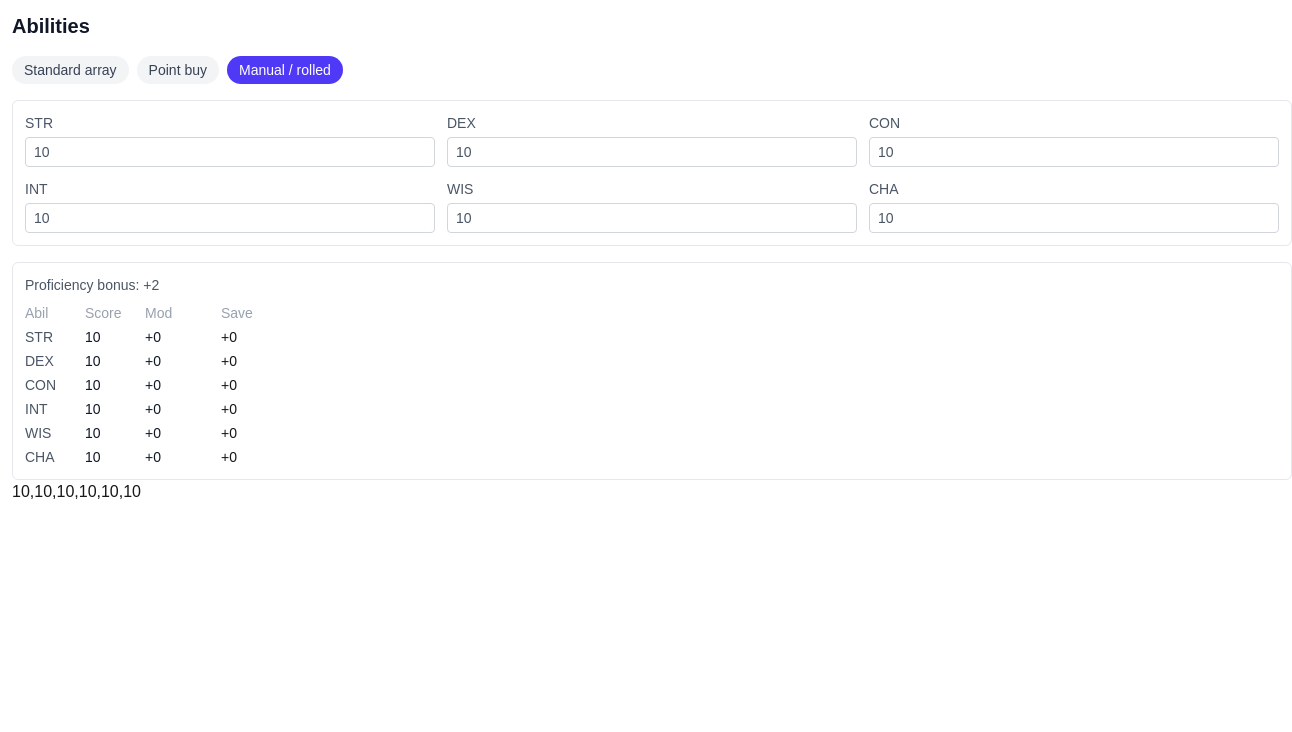
Scenario: AbilitiesStep — ability score generation › carries the point-buy result into manual mode for fine-tuning
Click the radio button labelled "Point buy" at (178, 70), box [137,56,219,84]
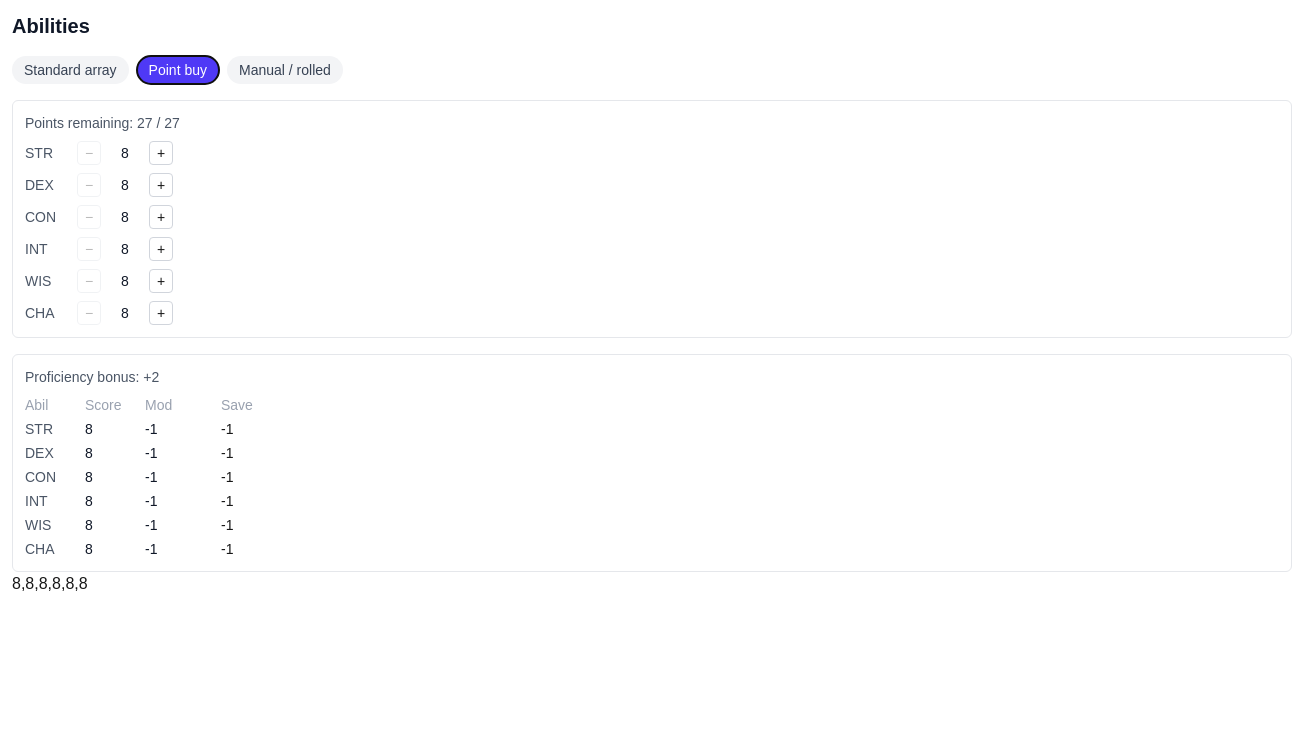
Click the button named "increase strength" at (161, 153), box [149,141,173,165]
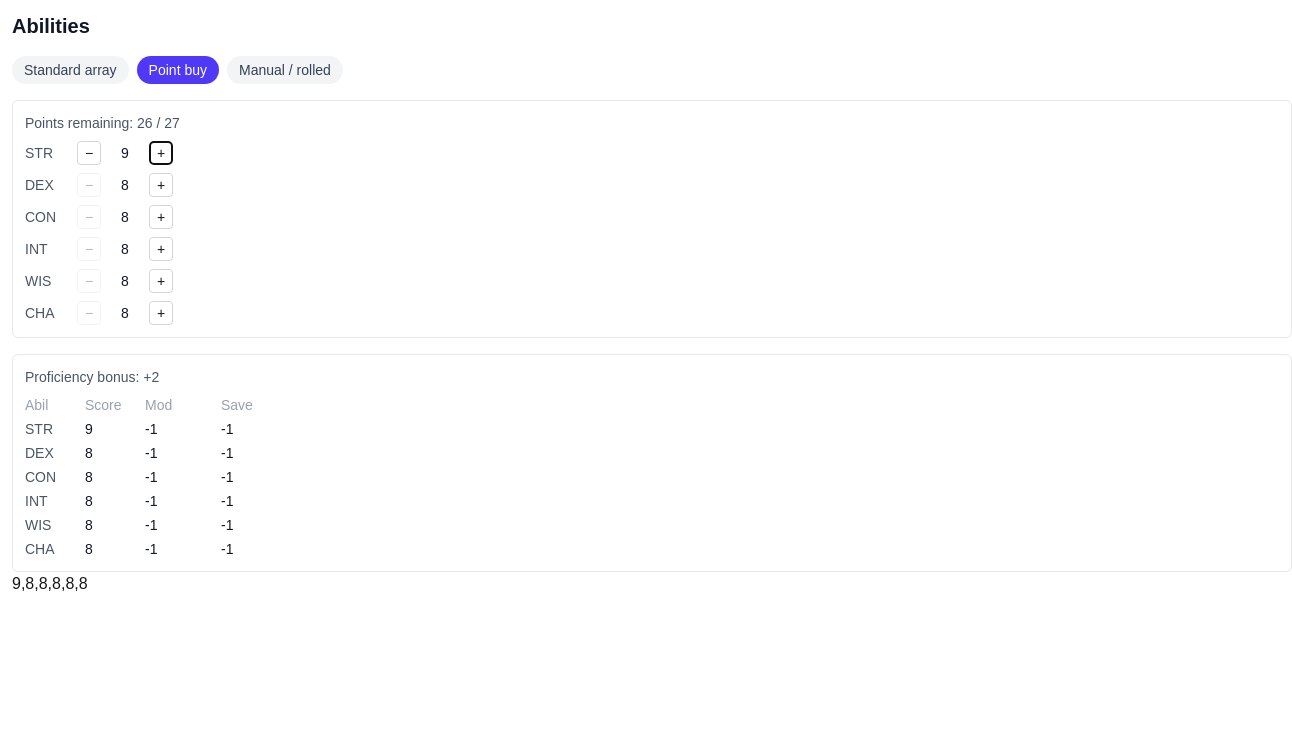
Click the button named "increase strength" at (161, 153), box [149,141,173,165]
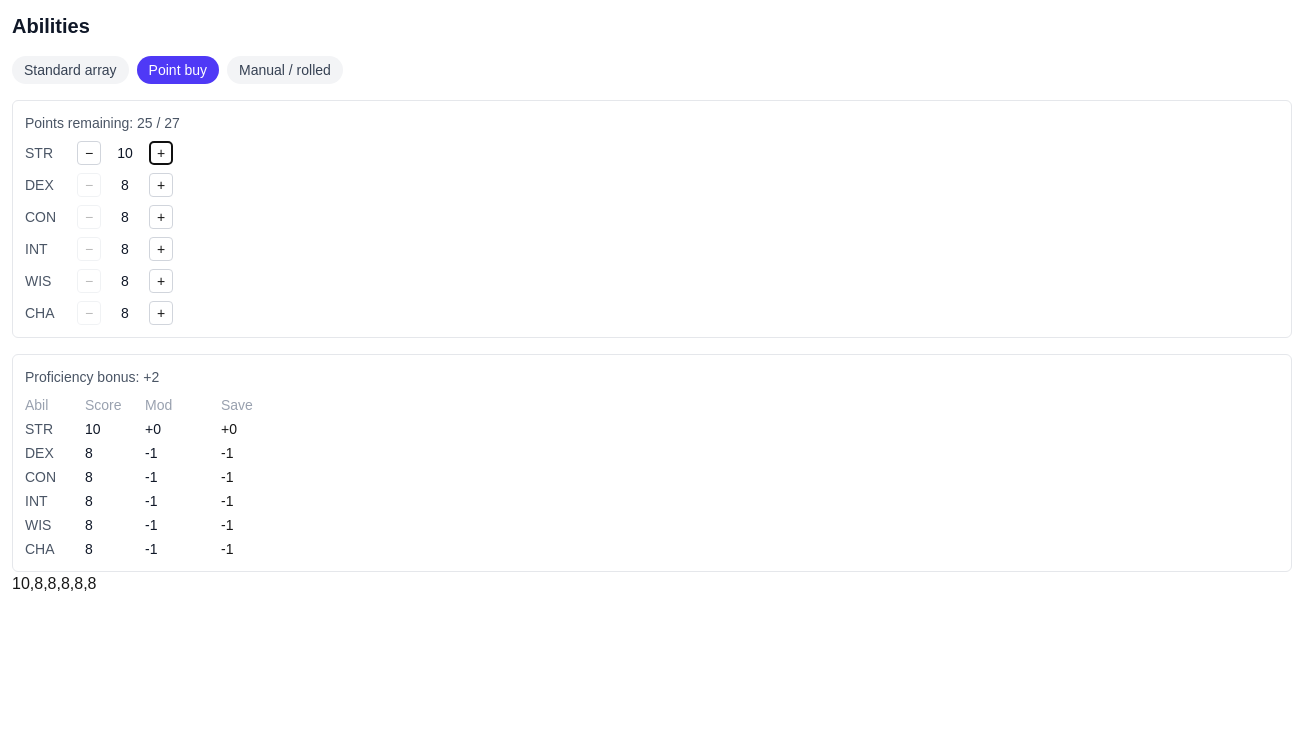
Click the radio button labelled "Manual / rolled" at (285, 70), box [227,56,343,84]
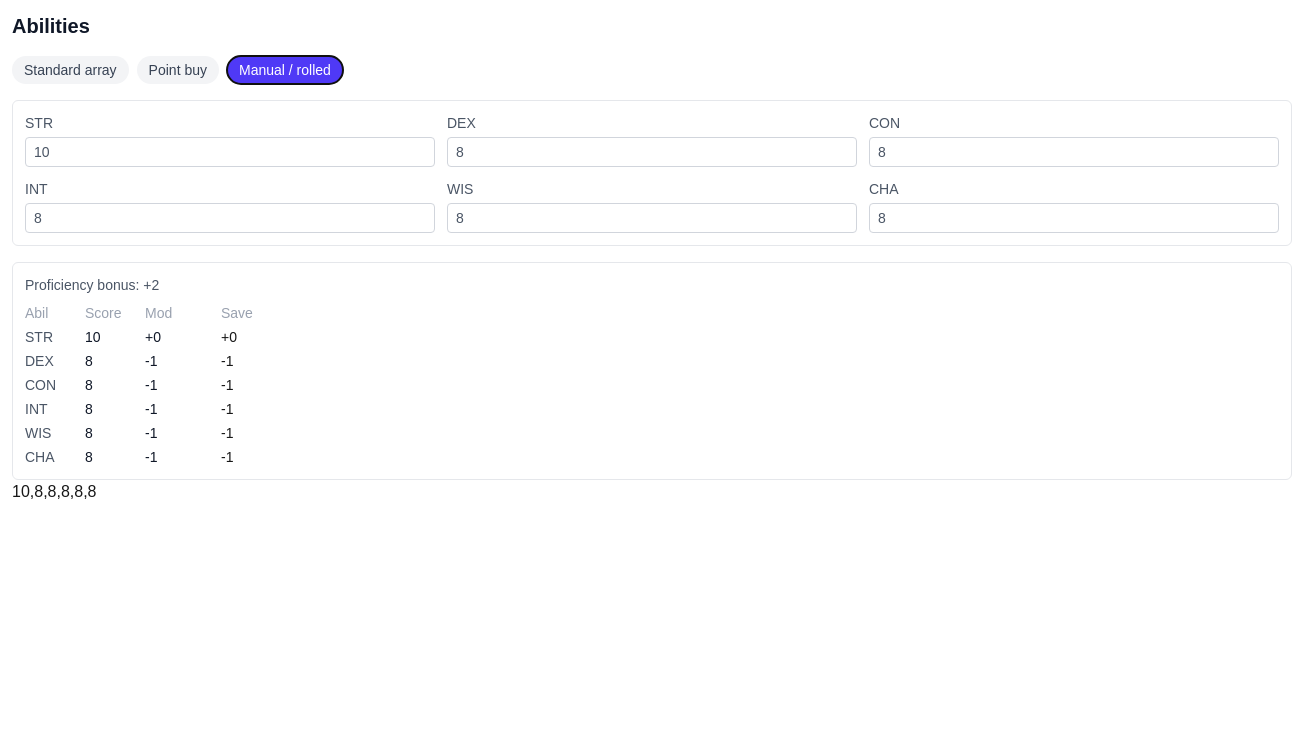
Check: the number field labelled "STR" holds "10", box [25,137,435,167]
